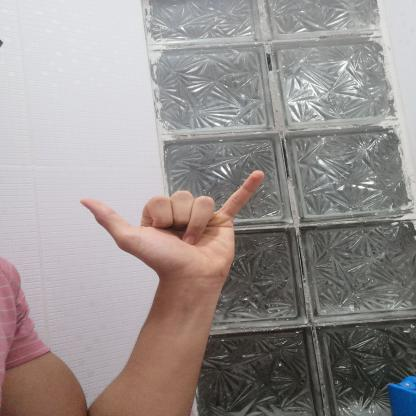YA: (65, 160, 277, 291)
